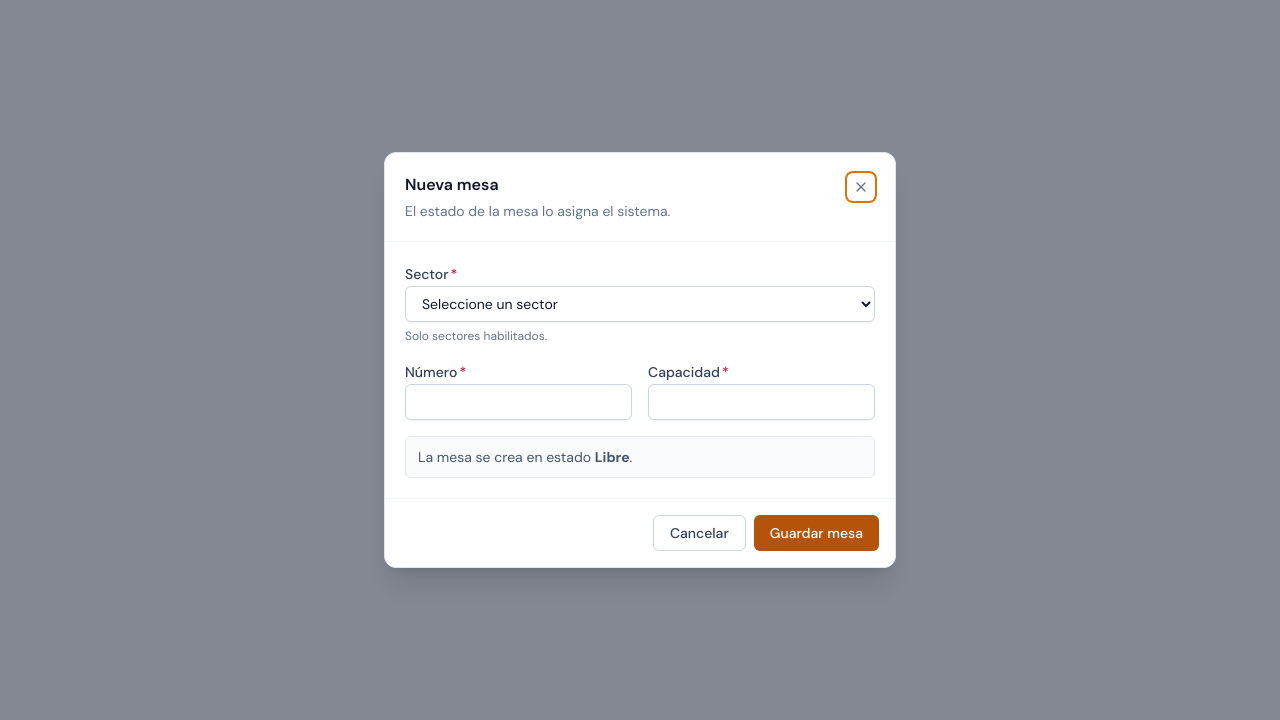
Test: MesaFormDialog: campos y estado › con una capacidad inválida advierte y no envía (CA 6)
Type "13" into the field labelled "Número*". click: point(518, 402)
box: [405,384,632,420]
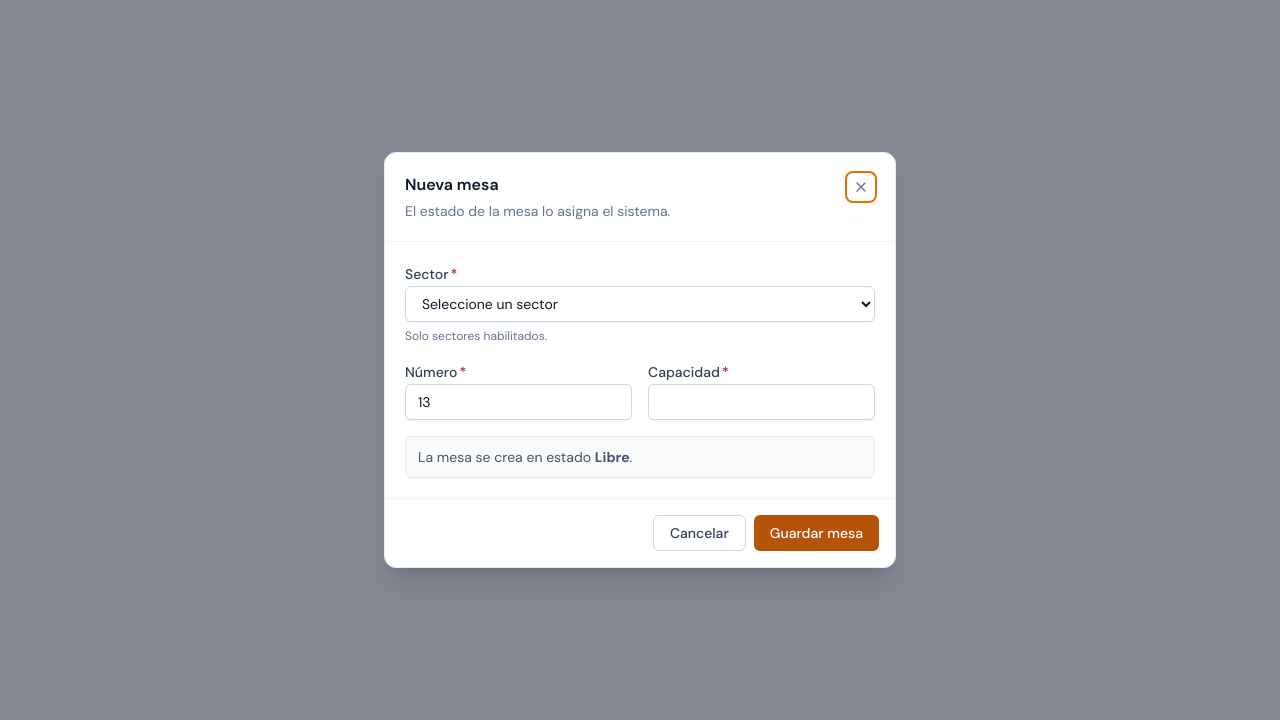
Type "4.5" into the field labelled "Capacidad*". click: point(762, 402)
box: [648,384,875,420]
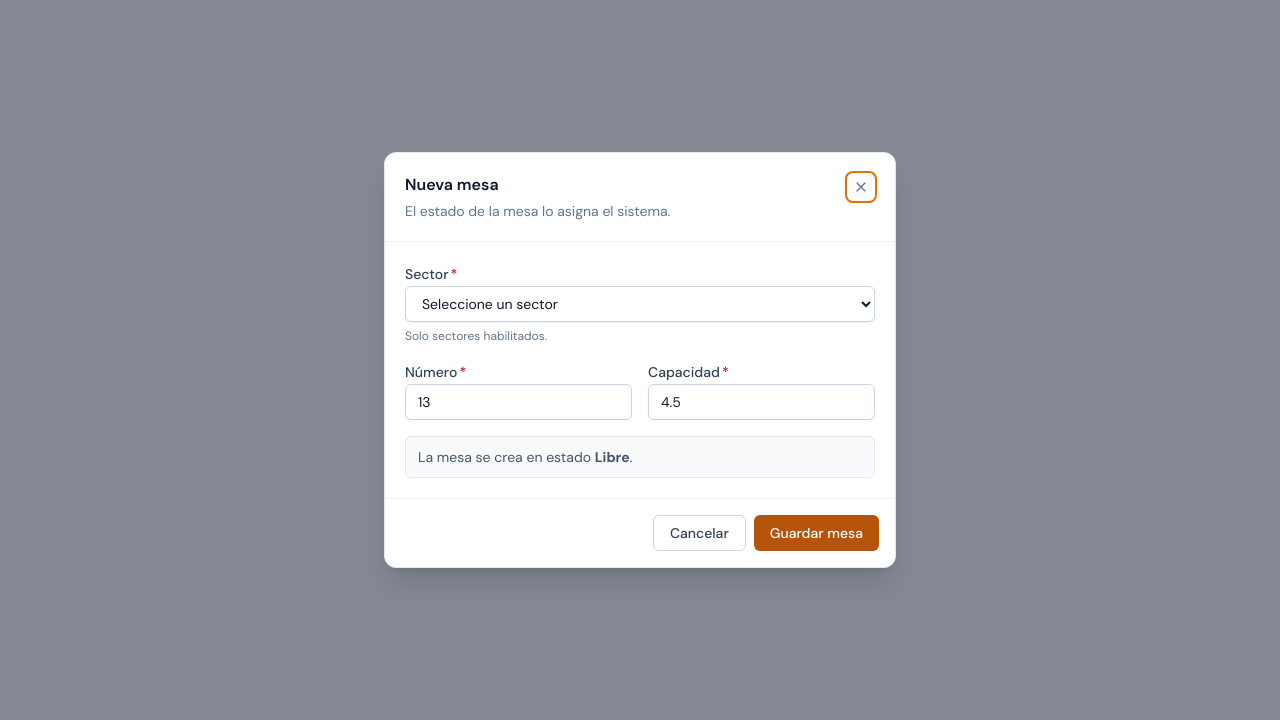
Select "Salón principal" in the dropdown labelled "Sector*". click: point(640, 304)
box: [405,286,875,322]
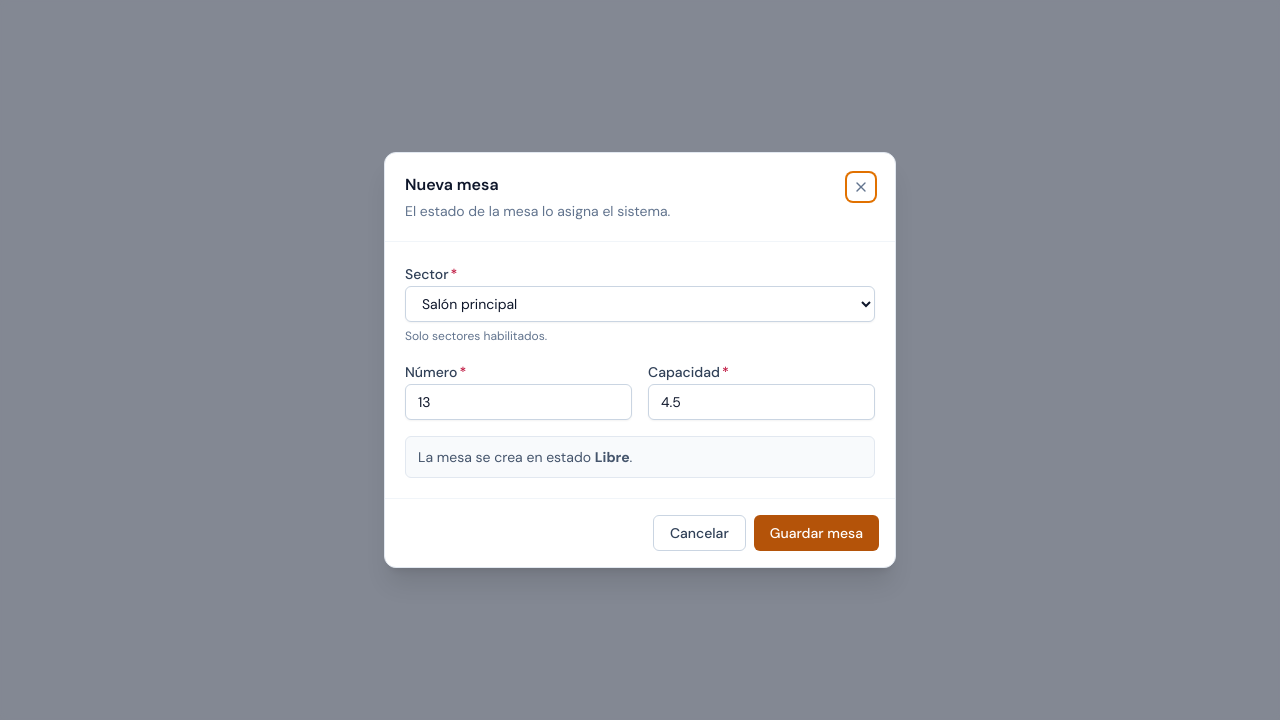
Click the button "Guardar mesa". click: point(816, 533)
box: [754,515,879,551]
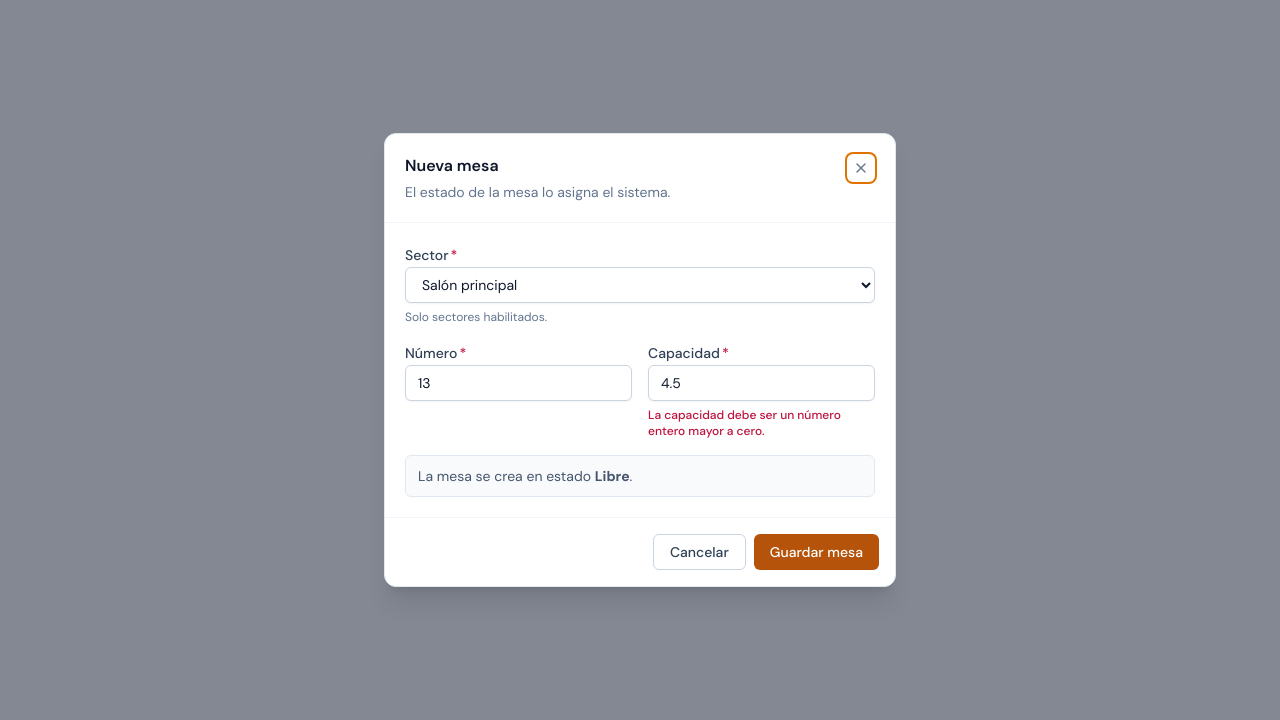
Expected: the text "La capacidad debe ser un número entero mayor a cero." is shown, [648,407,841,439]
